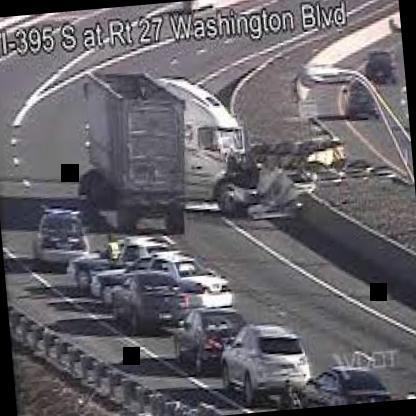accident: (68, 32, 304, 254)
